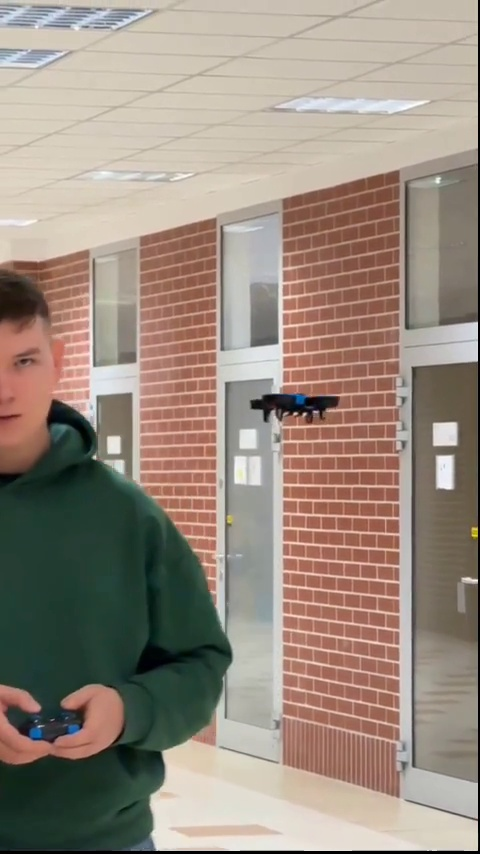drone: (246, 386, 337, 423)
no vest: (0, 259, 231, 847)
